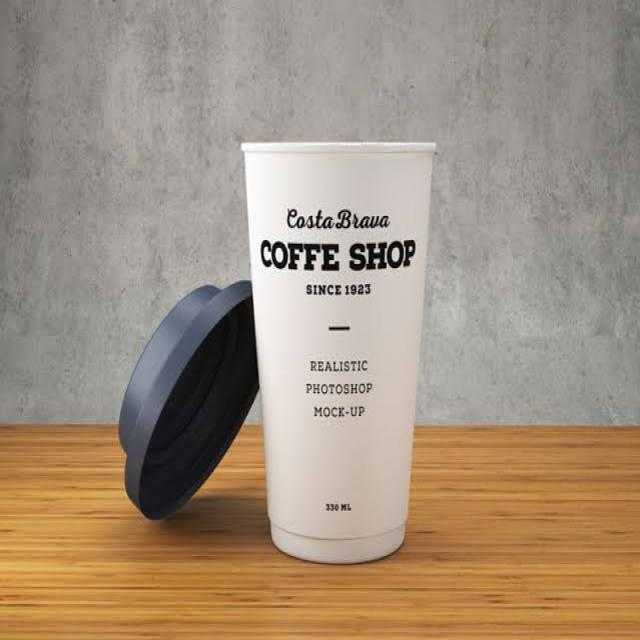paper cup: (231, 125, 445, 594)
